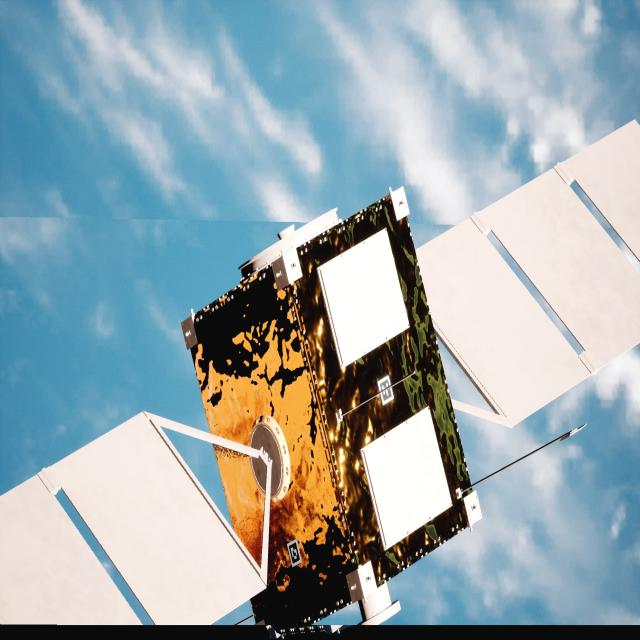medium_debris: (0, 122, 640, 629)
